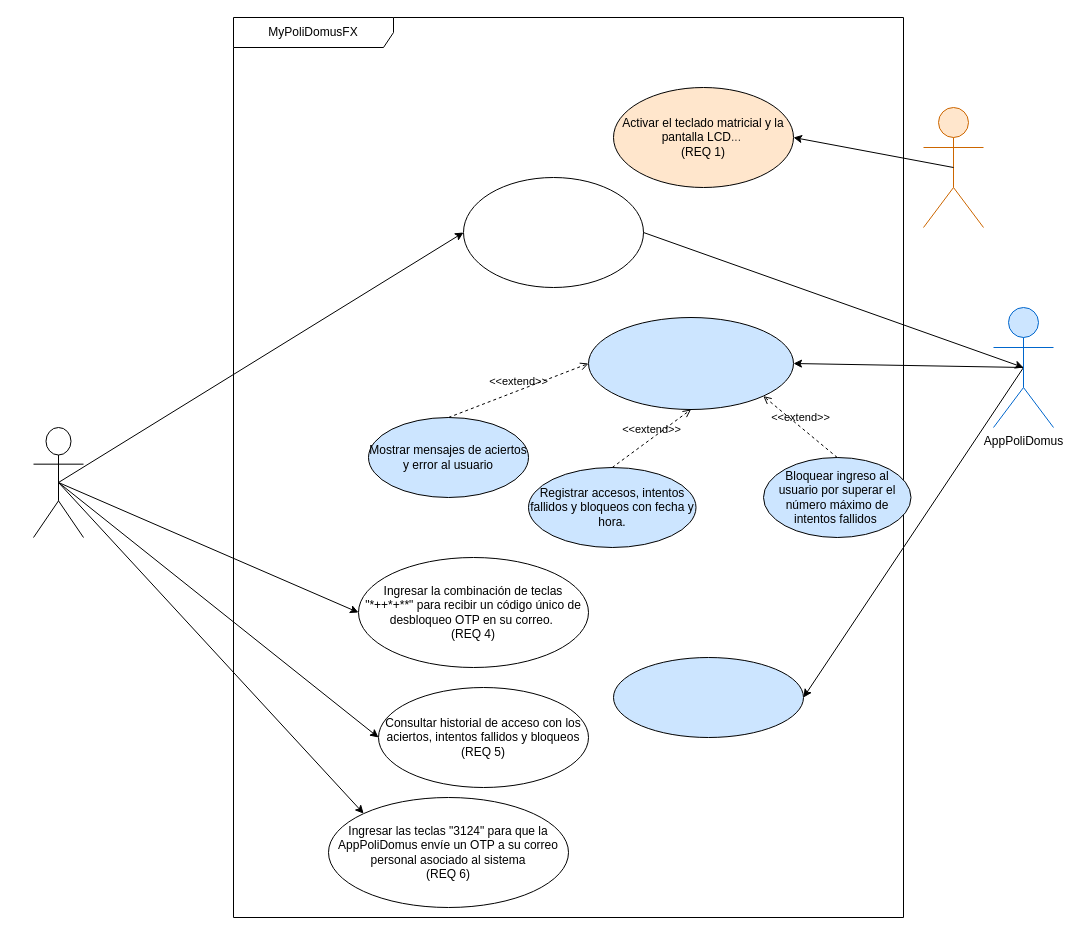
Image size: 1080x935. Some labels were removed from this diagram. Each missing label, with the centre of its shape:
"Arduino" goes at (x=953, y=167).
"Cear una contraseña de seis a diez caracteres en el módulo de registro (REQ 2)" goes at (x=553, y=232).
"DueñoProducto" goes at (x=58, y=482).
"Enviar un código único OTP al correo de DueñoProducto.. (REQ 4)" goes at (x=708, y=697).
"Verificar si la clave ingresada está registrada en la base de datos (REQ 3)" goes at (x=691, y=363).
